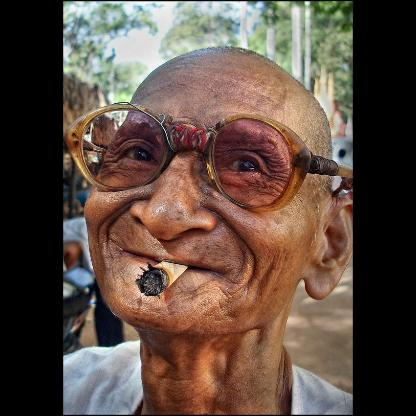Male: (83, 53, 353, 331)
